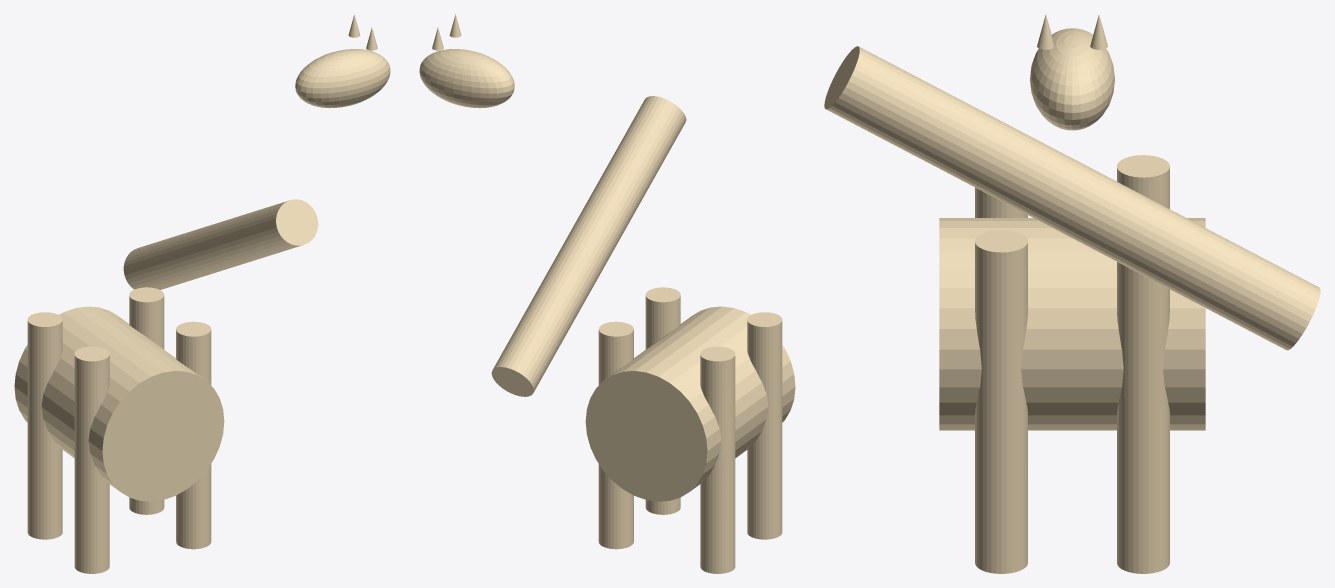
Rendered from giraffe.glb.
3 views of the same model, side by side, from view 1: azimuth 30°, elevation 25°; view 2: azimuth 150°, elevation 25°; view 3: azimuth 270°, elevation 25° (orthographic). The views are drawn at different scales.
Visible parts, largest first — view 1: giraffe_body, giraffe_neck, giraffe_leg_2, giraffe_leg_3, giraffe_head, giraffe_leg_1, giraffe_leg_0; view 2: giraffe_body, giraffe_neck, giraffe_leg_3, giraffe_leg_2, giraffe_head, giraffe_leg_0, giraffe_leg_1; view 3: giraffe_neck, giraffe_body, giraffe_leg_1, giraffe_leg_0, giraffe_head, giraffe_leg_2, giraffe_leg_3.
Part boxes in pixels (x1=…): giraffe_body: x1=14, y1=306, x2=224, y2=501; giraffe_neck: x1=123, y1=199, x2=318, y2=289; giraffe_leg_2: x1=27, y1=312, x2=62, y2=539; giraffe_leg_3: x1=74, y1=346, x2=109, y2=573; giraffe_head: x1=295, y1=49, x2=390, y2=108; giraffe_leg_1: x1=176, y1=321, x2=211, y2=549; giraffe_leg_0: x1=129, y1=287, x2=164, y2=514; giraffe_body: x1=585, y1=306, x2=795, y2=501; giraffe_neck: x1=491, y1=96, x2=686, y2=396; giraffe_leg_3: x1=747, y1=312, x2=782, y2=539; giraffe_leg_2: x1=700, y1=346, x2=735, y2=573; giraffe_head: x1=419, y1=49, x2=514, y2=108; giraffe_leg_0: x1=598, y1=321, x2=633, y2=549; giraffe_leg_1: x1=645, y1=287, x2=680, y2=514; giraffe_neck: x1=824, y1=46, x2=1320, y2=350; giraffe_body: x1=939, y1=218, x2=1205, y2=430; giraffe_leg_1: x1=975, y1=230, x2=1027, y2=573; giraffe_leg_0: x1=1117, y1=262, x2=1169, y2=573; giraffe_head: x1=1030, y1=28, x2=1114, y2=130; giraffe_leg_2: x1=1117, y1=155, x2=1169, y2=208; giraffe_leg_3: x1=975, y1=187, x2=1027, y2=217.
Bounding box in the file's own units: 3.3 × 4.3 × 2.8.
